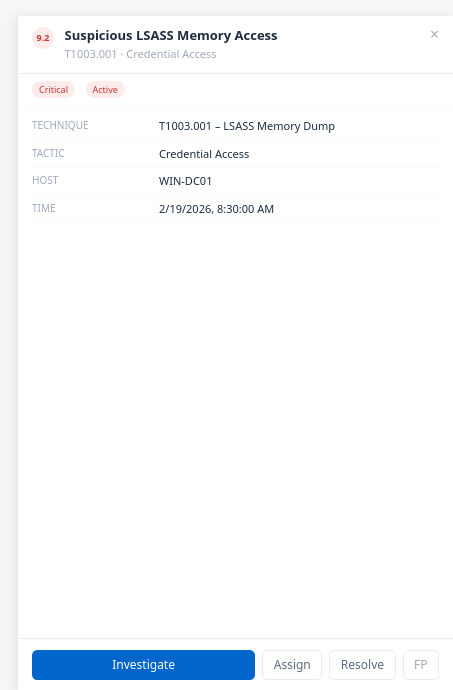
Test: DetectionPanel › action footer buttons › shows update error message when mutation fails
Click the button "Resolve" at (362, 664), box [329,650,396,680]
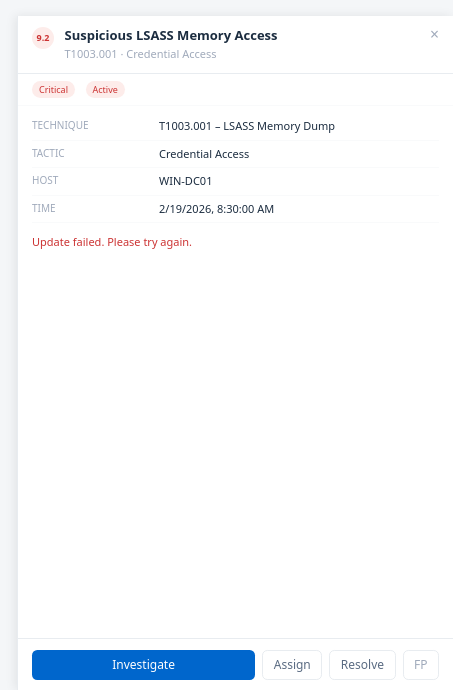
Check: the text "Update failed. Please try again." is shown, box [32,234,192,249]
